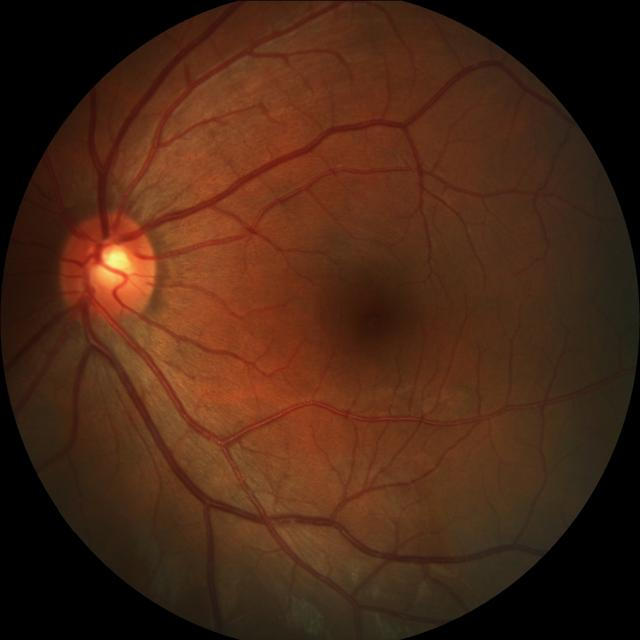OC: (87, 239, 137, 291)
OD: (59, 210, 160, 324)
